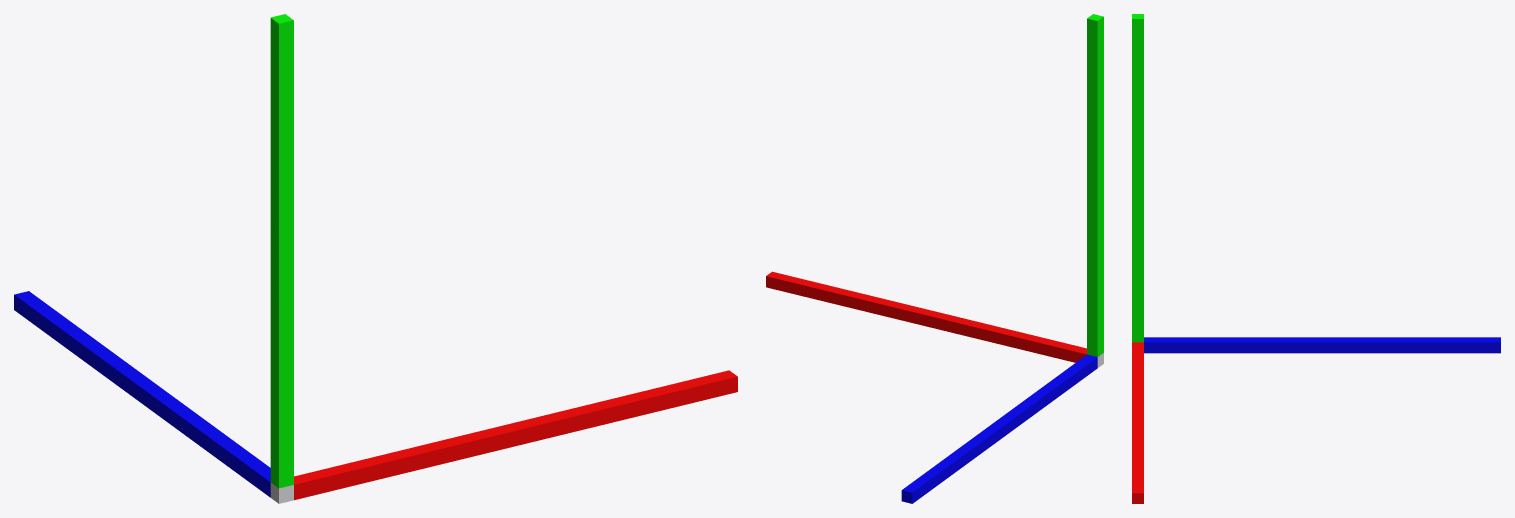
File: gizmo.glb
The picture shows the model from 3 angles, left to right: view 1: azimuth 30°, elevation 25°; view 2: azimuth 150°, elevation 25°; view 3: azimuth 270°, elevation 25°; orthographic projection. The views are drawn at different scales.
Visible parts, largest first — view 1: Gizmo; view 2: Gizmo; view 3: Gizmo.
Boxes of the visible parts, x1=… form: Gizmo: x1=14, y1=14, x2=737, y2=503; Gizmo: x1=766, y1=14, x2=1103, y2=503; Gizmo: x1=1132, y1=14, x2=1500, y2=503.
Bounding box in the file's own units: 3.1 × 3.1 × 3.1.
